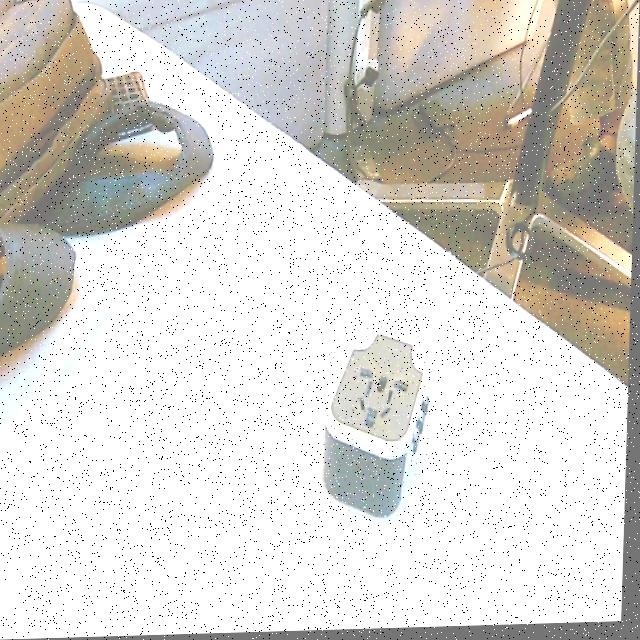adapter: (325, 327, 436, 521)
